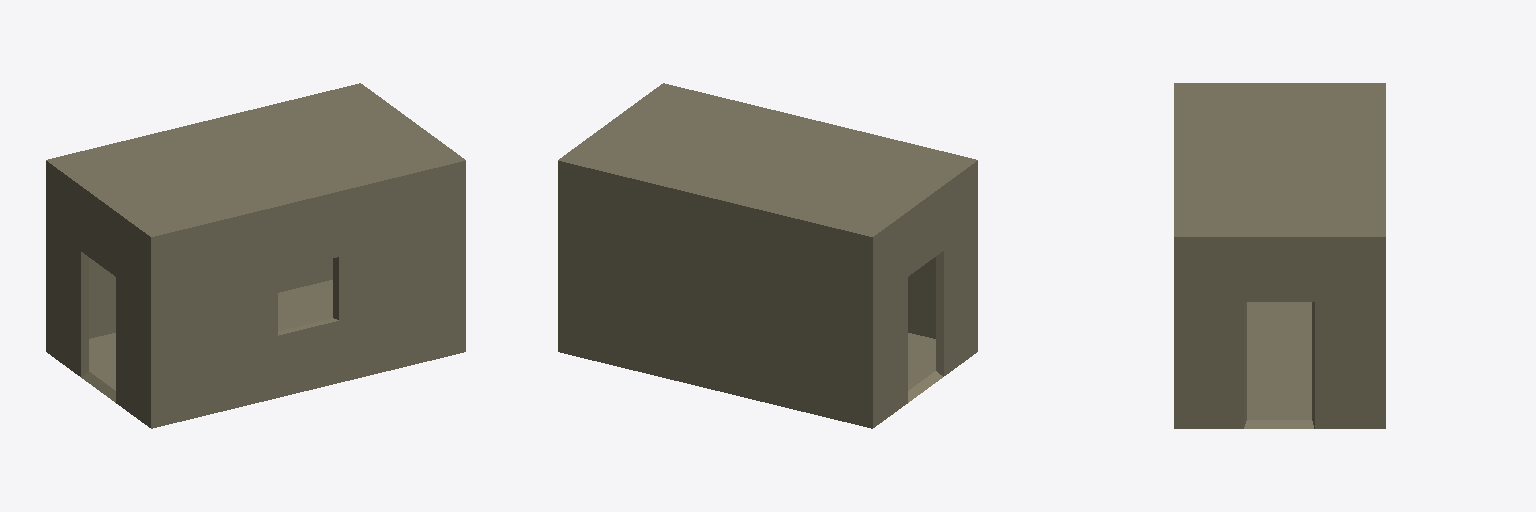
The model's file is house.obj.
3 views of the same model, side by side, from view 1: azimuth 30°, elevation 25°; view 2: azimuth 150°, elevation 25°; view 3: azimuth 270°, elevation 25° (orthographic).
Parts seen in each view (by area): view 1: Cube; view 2: Cube; view 3: Cube.
Boxes of the visible parts, x1=… form: Cube: x1=46, y1=83, x2=465, y2=428; Cube: x1=558, y1=83, x2=977, y2=428; Cube: x1=1174, y1=83, x2=1385, y2=428.
Size of the model in its own units: 3.45 by 2 by 2.